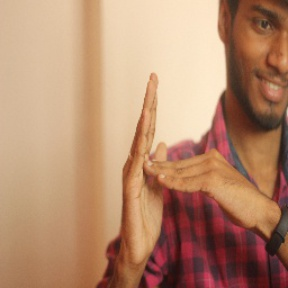Z: (110, 70, 270, 255)
